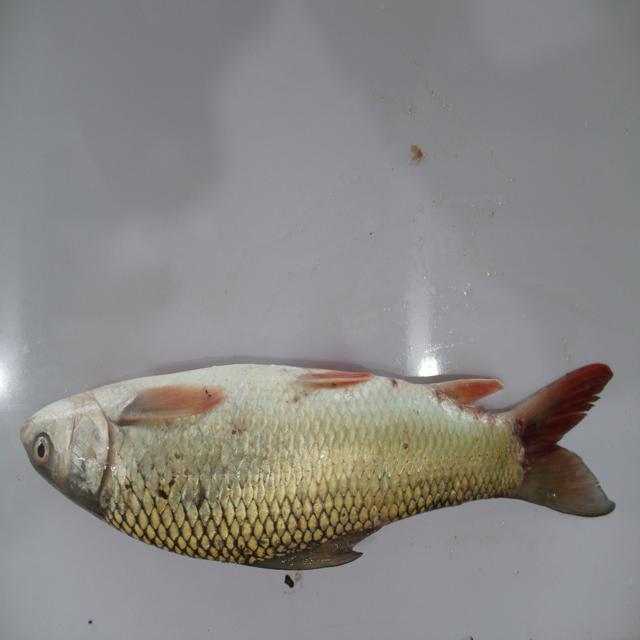Mori: (13, 353, 635, 594)
